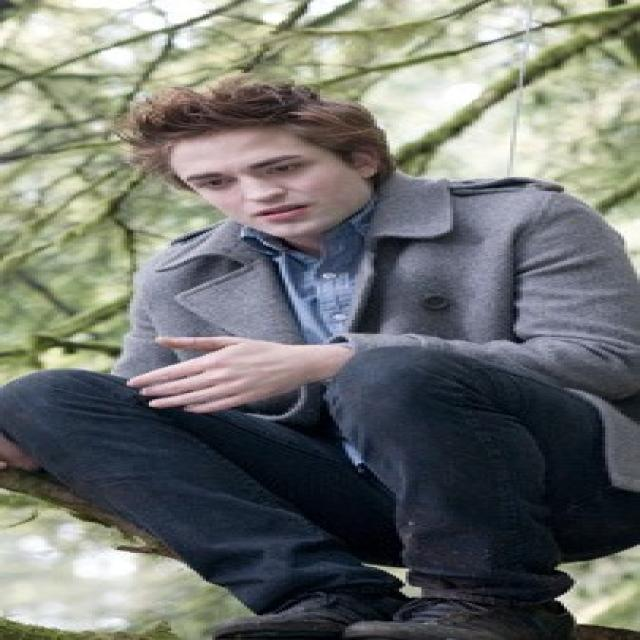human: (2, 87, 640, 640)
